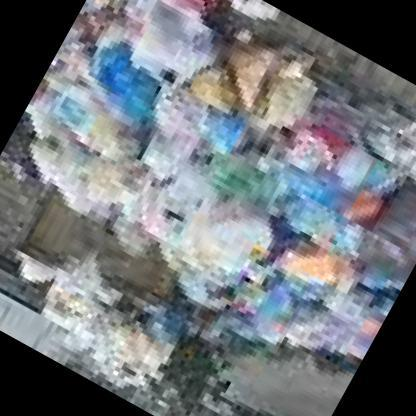Garbage: (21, 0, 415, 329), (29, 268, 188, 398), (189, 5, 334, 142), (101, 0, 252, 108), (174, 180, 286, 284), (296, 64, 402, 161), (176, 60, 276, 162), (109, 122, 206, 210), (70, 137, 160, 229), (78, 36, 168, 128), (233, 268, 316, 354), (316, 268, 394, 354), (284, 234, 366, 310), (268, 109, 346, 188), (10, 134, 78, 196), (95, 312, 164, 373), (387, 97, 415, 213), (199, 97, 254, 155), (10, 256, 53, 292)
